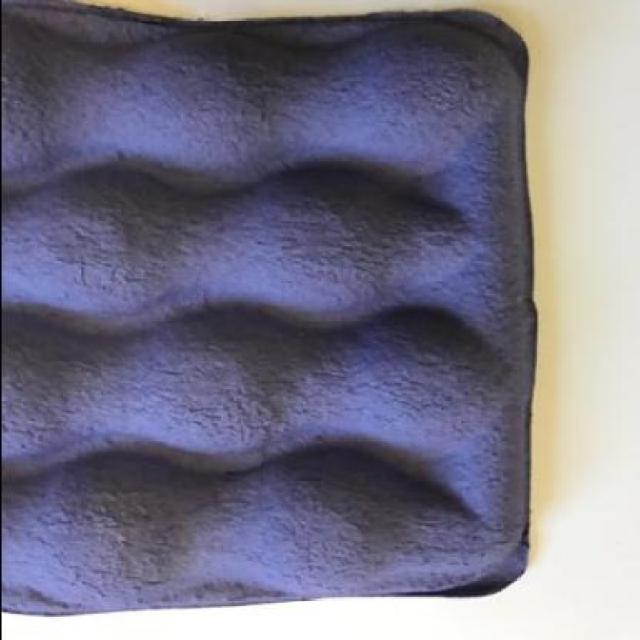CARDBOARD: (1, 2, 533, 620)
